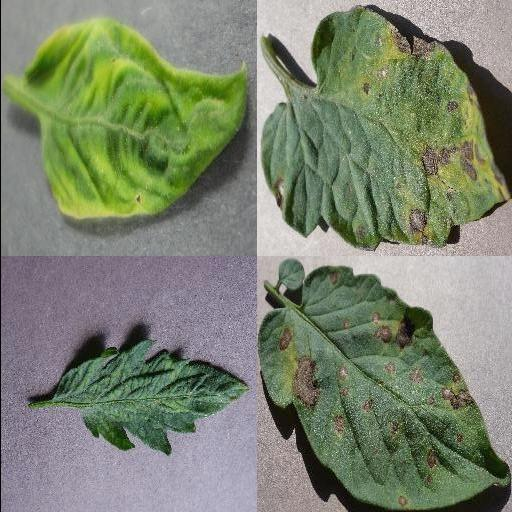Early Blight: (256, 266, 510, 511), (259, 8, 509, 252)
Mosaic Virus: (53, 339, 251, 457)
Yellow Leaf Curl Virus: (22, 20, 248, 226)
